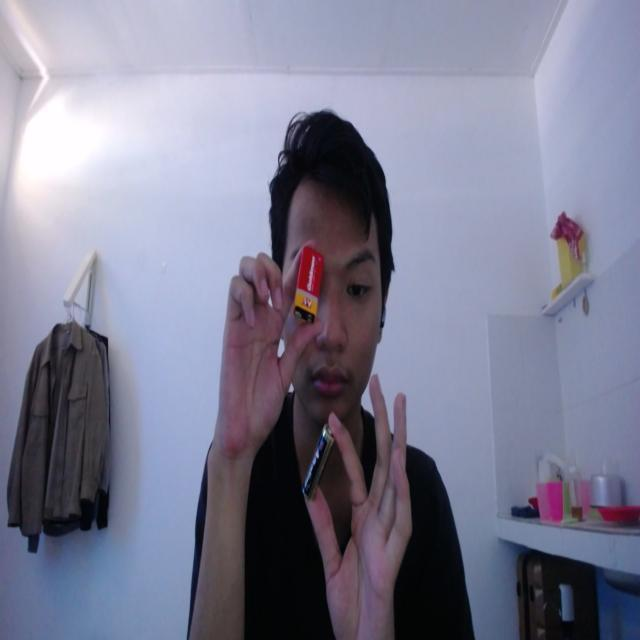Hazard: (300, 422, 338, 503), (291, 244, 327, 326)
